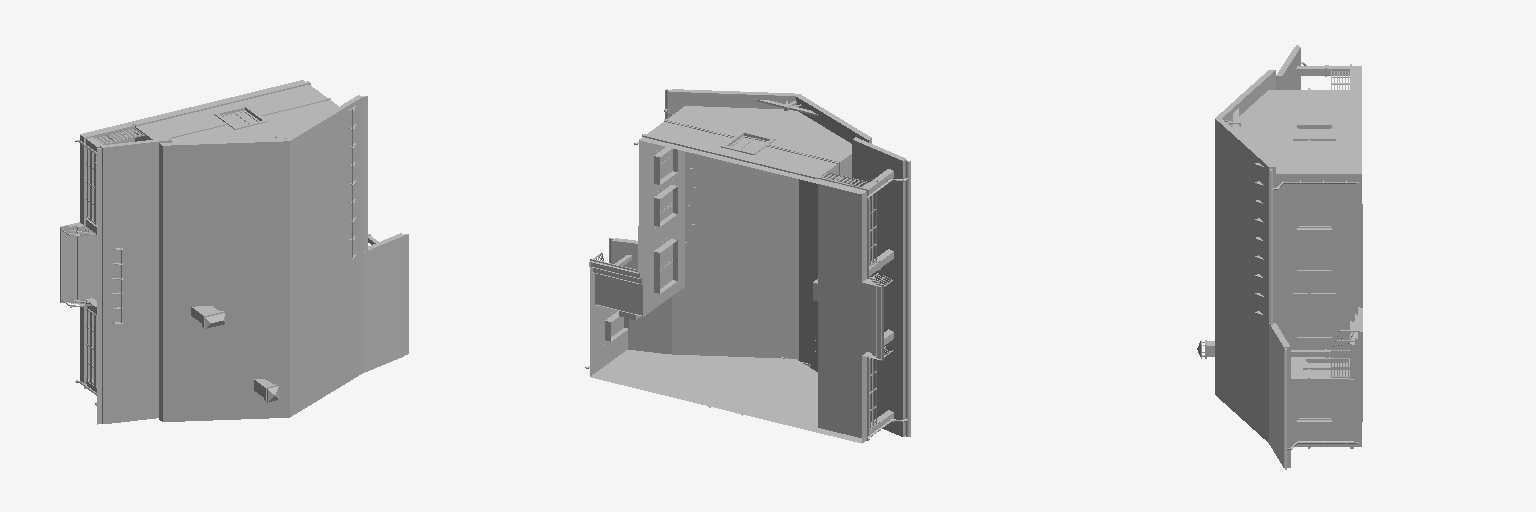
The model's file is house.obj.
The picture shows the model from 3 angles: view 1: azimuth 30°, elevation 25°; view 2: azimuth 150°, elevation 25°; view 3: azimuth 270°, elevation 25°; orthographic projection.
Parts seen in each view (by area): view 1: Cottage_Free.001; view 2: Cottage_Free.001; view 3: Cottage_Free.001.
Boxes of the visible parts, box(x1,y1,x2,y2) form: Cottage_Free.001: box(60, 80, 408, 424); Cottage_Free.001: box(585, 89, 910, 443); Cottage_Free.001: box(1197, 45, 1362, 469).
Bounding box in the file's own units: 19.16 × 16.26 × 8.83.